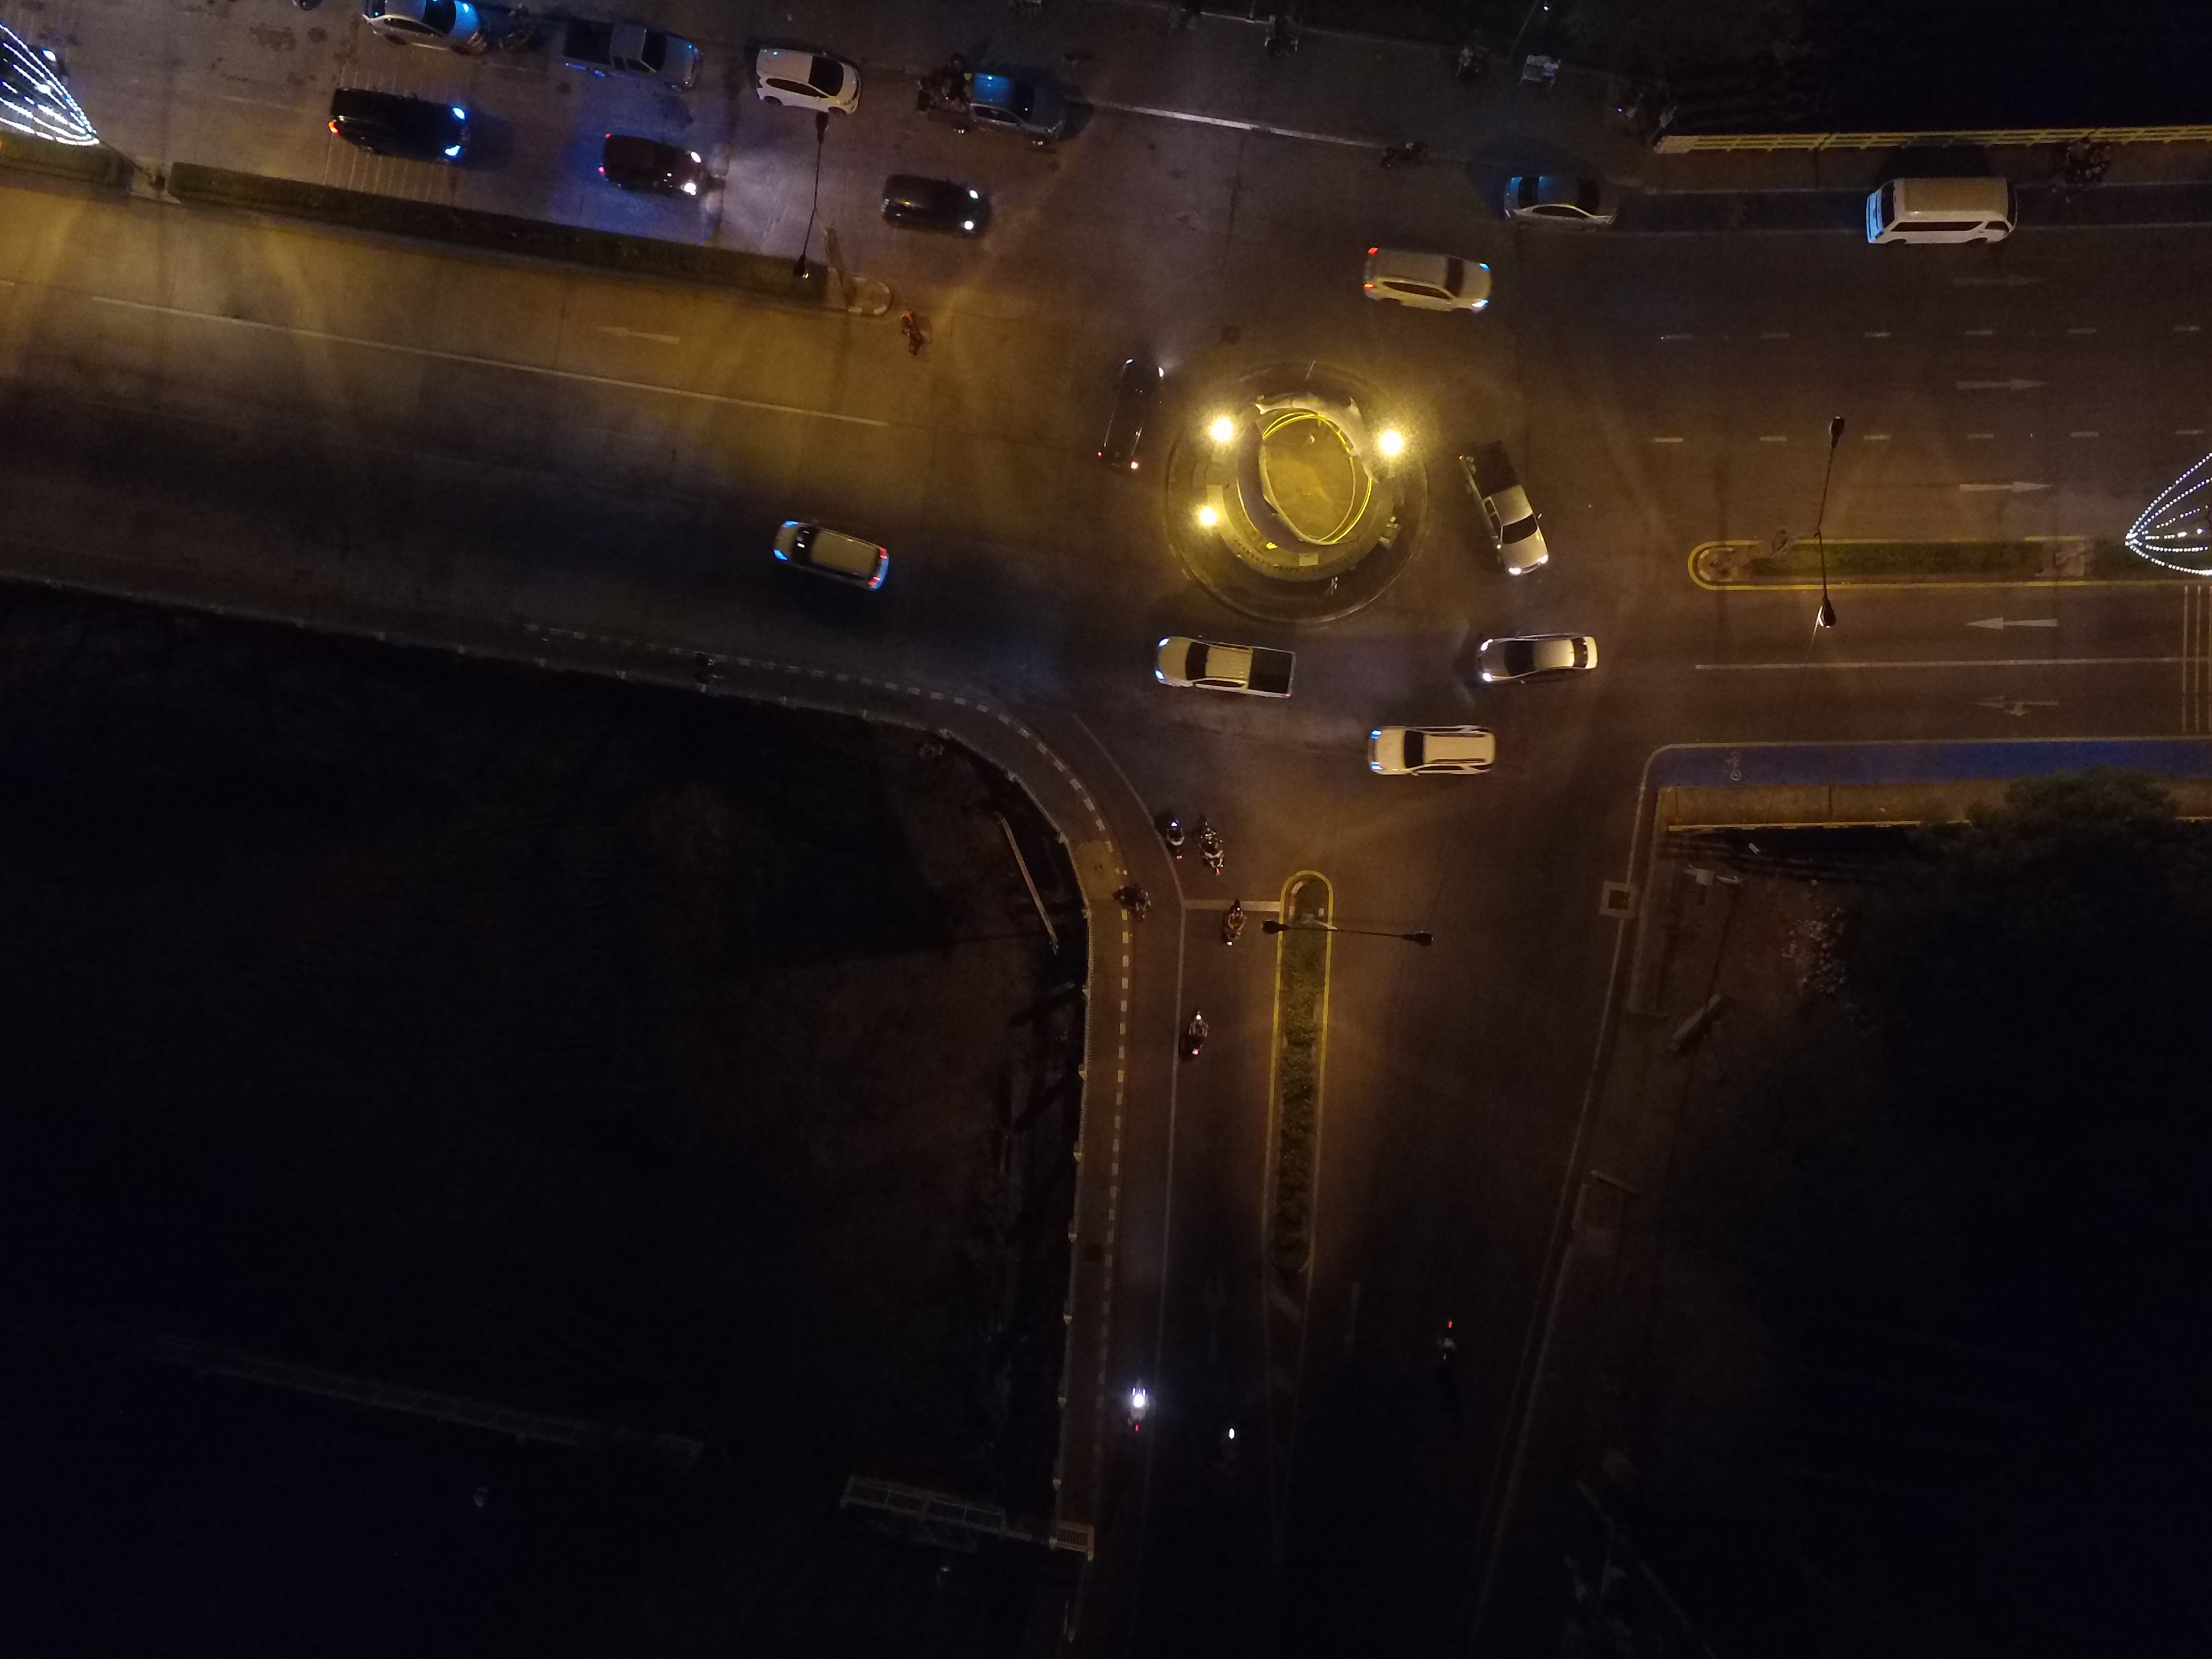car: (1449, 429, 1568, 587), (1144, 615, 1298, 718), (559, 7, 712, 110), (1458, 617, 1609, 720), (859, 169, 1010, 272), (728, 38, 880, 141), (597, 120, 749, 223), (754, 509, 907, 610), (1353, 702, 1507, 803), (322, 78, 475, 179), (925, 63, 1076, 164), (1486, 160, 1646, 246), (1345, 237, 1505, 322), (1864, 166, 2022, 249), (343, 0, 502, 70)
